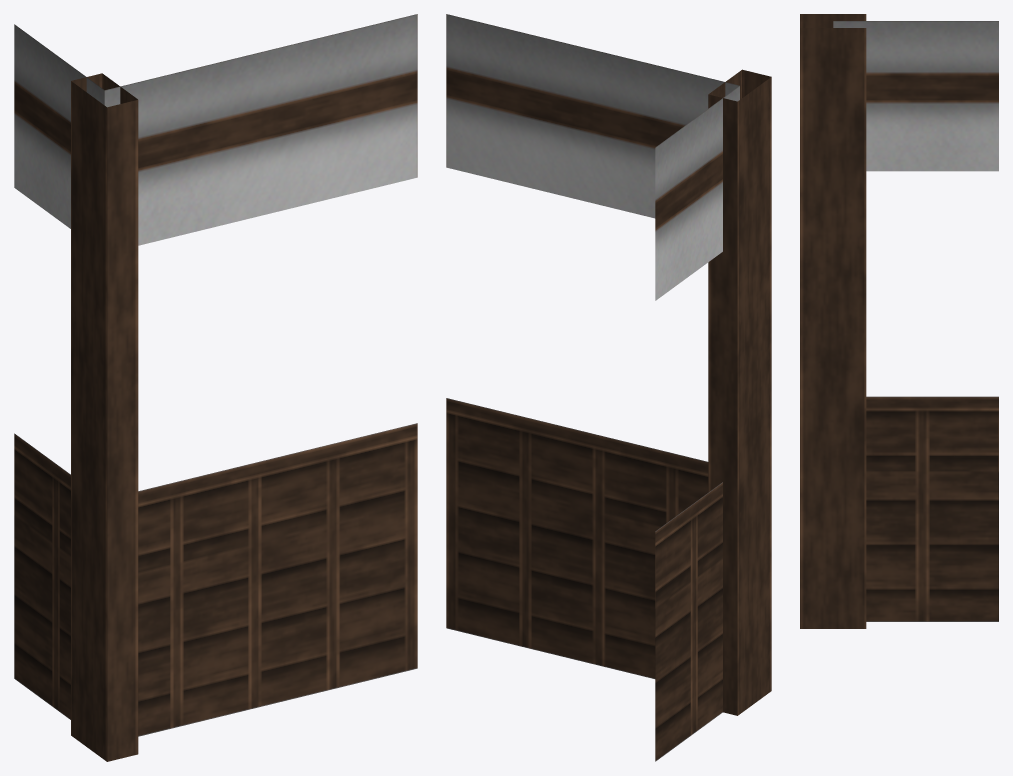
Rendered from house_wall_window_b_corner_1.fbx.
The picture shows the model from 3 angles, left to right: view 1: azimuth 30°, elevation 25°; view 2: azimuth 150°, elevation 25°; view 3: azimuth 270°, elevation 25°; orthographic projection. The views are drawn at different scales.
Parts seen in each view (by area): view 1: house_wall_window_b_corner_1; view 2: house_wall_window_b_corner_1; view 3: house_wall_window_b_corner_1.
Part boxes in pixels (bbox=[...]): house_wall_window_b_corner_1: bbox=[14, 14, 417, 761]; house_wall_window_b_corner_1: bbox=[446, 14, 771, 761]; house_wall_window_b_corner_1: bbox=[800, 14, 998, 628].
Size of the model in its own units: 210 by 400 by 120.
